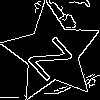Z: (27, 28, 81, 82)
